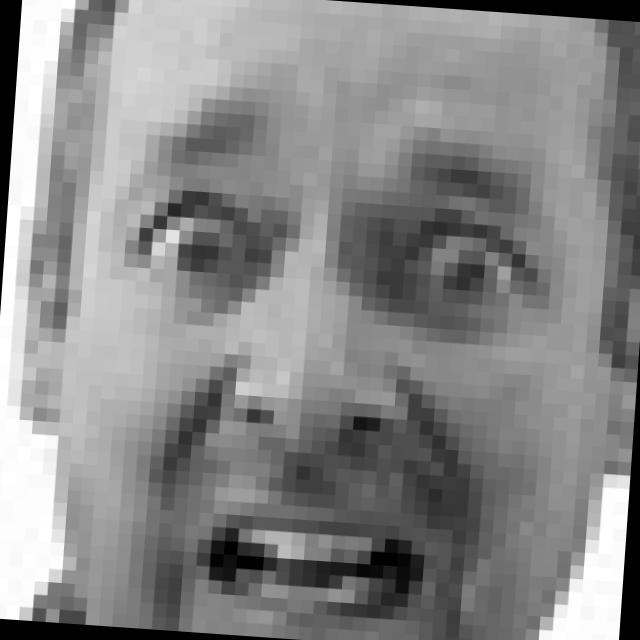fear: (86, 97, 556, 640)
